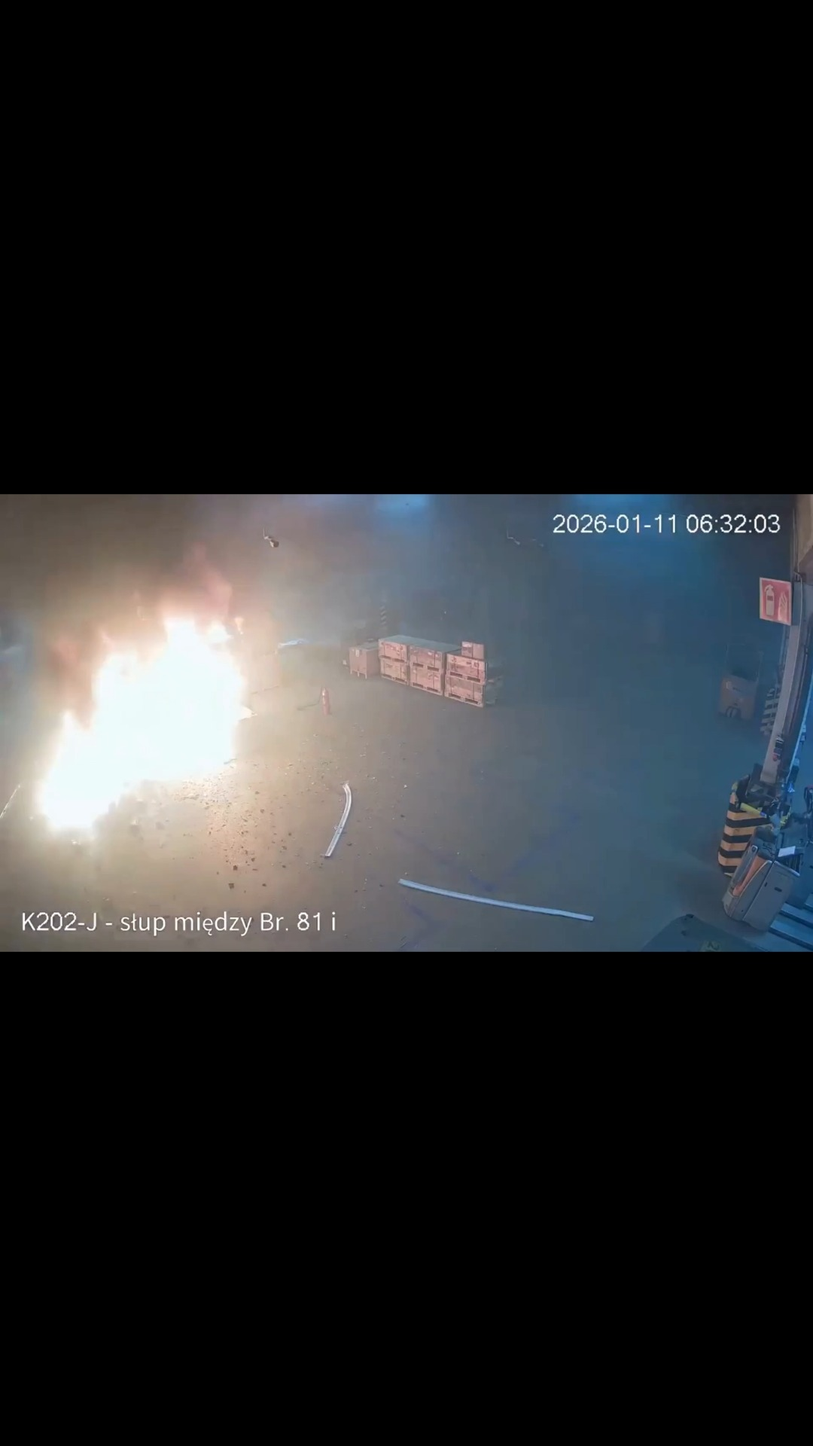fire: (55, 592, 248, 841)
